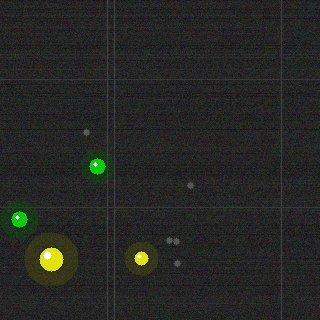green_normal: (87, 156, 107, 176), (9, 209, 29, 229)
yellow_warning: (37, 245, 65, 273), (132, 249, 150, 267)
